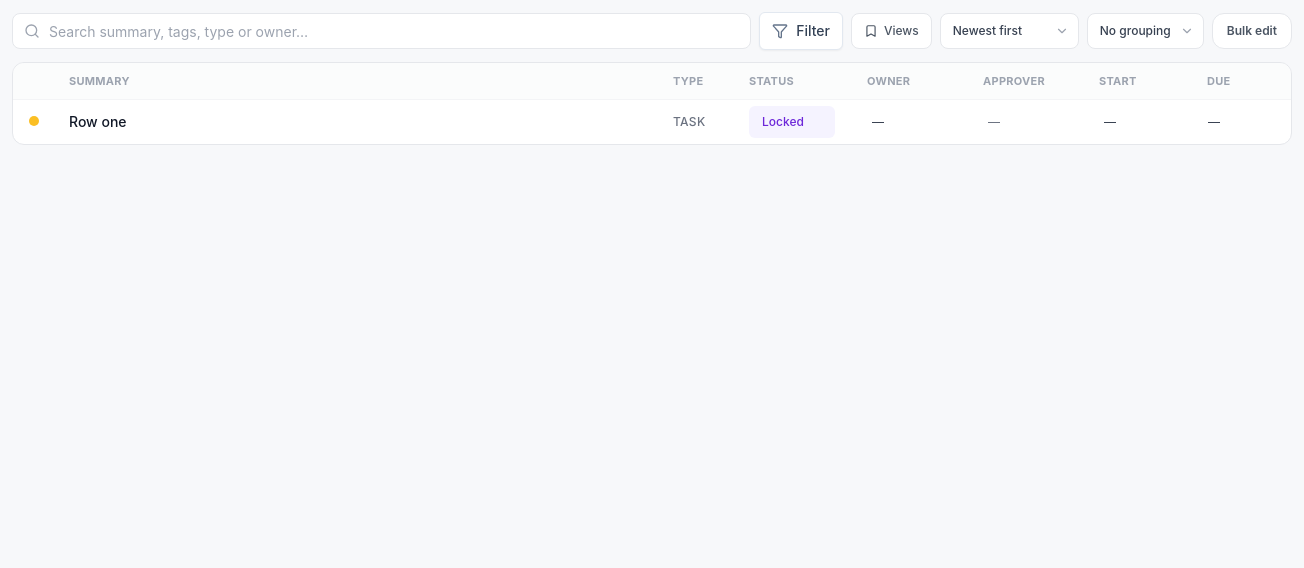
ListView row context menu (Step 3 owner / approver) › LOCKED task disables owner and approver menu rows
Right-click the text "Row one" at (98, 122), box [13, 100, 1291, 144]
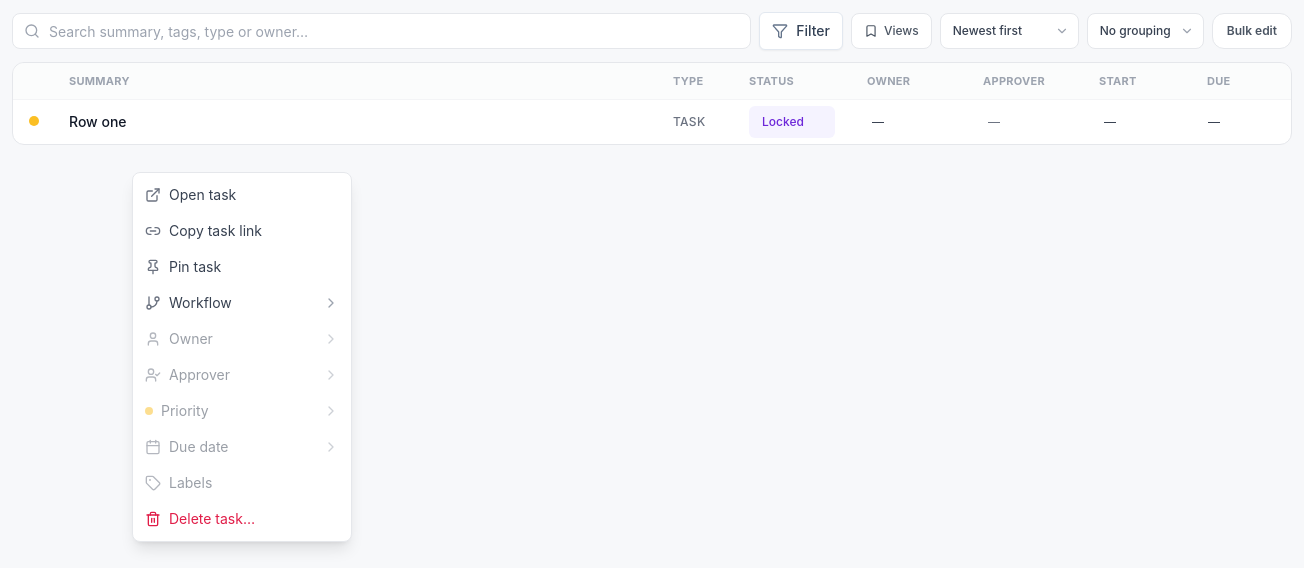
expect the menu item "Owner" is disabled: met, box [133, 321, 351, 357]
expect the menu item "Approver" is disabled: met, box [133, 357, 351, 393]
